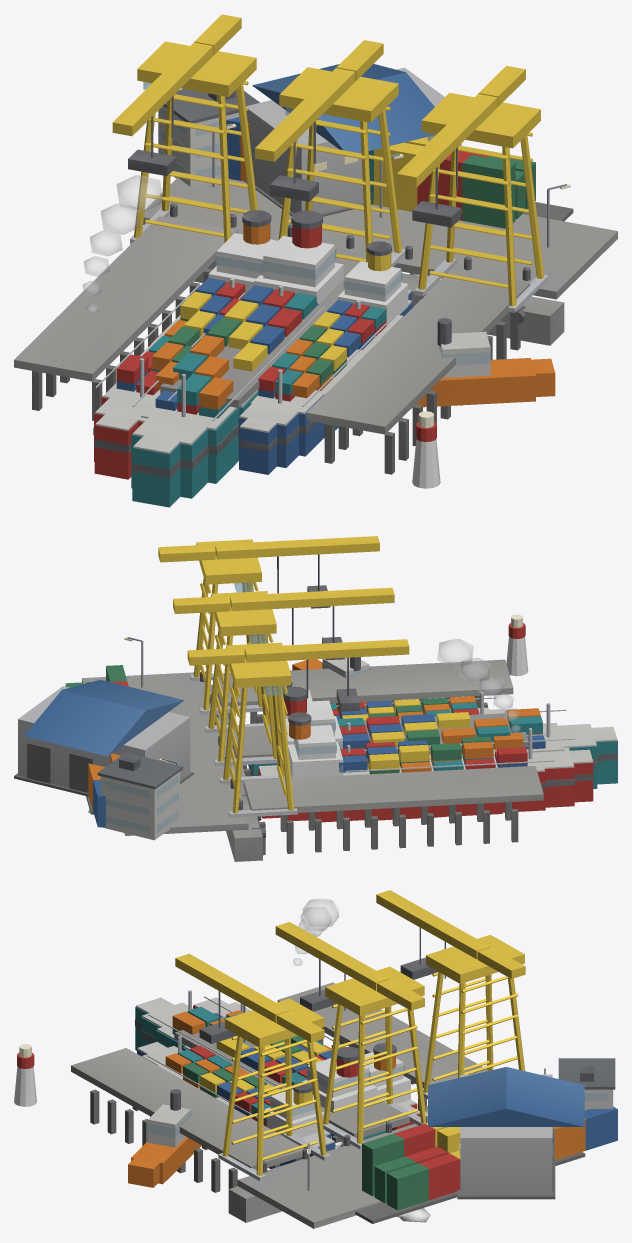
File: Port_P3.fbx
The picture shows the model from 3 angles, top to bottom: view 1: azimuth 30°, elevation 25°; view 2: azimuth 150°, elevation 25°; view 3: azimuth 270°, elevation 25°; orthographic projection. The views are drawn at different scales.
Parts seen in each view (by area): view 1: Port.ShipOut, Port.Pier0, Port.Pier2, Port.Ship1, Port.Crane2, Port.Apron, Port.Crane0, Port.Crane1, Port.Ship0, Port.Shed, Port.Containers, Port.Tug (+5 smaller); view 2: Port.Ship0, Port.Shed, Port.Pier0, Port.ShipOut, Port.Crane0, Port.Crane1, Port.Pier2, Port.Crane2, Port.Apron, Port.Control, Port.Ship1, Port.ShipSmoke (+5 smaller); view 3: Port.Shed, Port.Crane2, Port.Crane1, Port.Pier2, Port.Crane0, Port.Containers, Port.Apron, Port.ShipOut, Port.Ship1, Port.Pier0, Port.Tug, Port.Ship0 (+5 smaller).
Boxes of the visible parts, x1=… form: Port.ShipOut: x1=130, y1=210, x2=343, y2=507; Port.Pier0: x1=14, y1=216, x2=237, y2=420; Port.Pier2: x1=306, y1=269, x2=530, y2=474; Port.Ship1: x1=238, y1=241, x2=412, y2=474; Port.Crane2: x1=397, y1=65, x2=548, y2=312; Port.Apron: x1=143, y1=177, x2=617, y2=299; Port.Crane0: x1=112, y1=14, x2=257, y2=243; Port.Crane1: x1=255, y1=40, x2=405, y2=266; Port.Ship0: x1=93, y1=210, x2=277, y2=479; Port.Shed: x1=244, y1=64, x2=461, y2=216; Port.Containers: x1=226, y1=117, x2=535, y2=228; Port.Tug: x1=416, y1=318, x2=555, y2=407; Port.Ship0: x1=258, y1=712, x2=593, y2=822; Port.Shed: x1=14, y1=680, x2=194, y2=796; Port.Pier0: x1=243, y1=766, x2=543, y2=855; Port.ShipOut: x1=249, y1=686, x2=617, y2=788; Port.Crane0: x1=187, y1=639, x2=409, y2=817; Port.Crane1: x1=173, y1=587, x2=394, y2=766; Port.Pier2: x1=218, y1=659, x2=513, y2=723; Port.Crane2: x1=158, y1=536, x2=379, y2=714; Port.Apron: x1=82, y1=672, x2=248, y2=835; Port.Control: x1=97, y1=752, x2=182, y2=840; Port.Ship1: x1=248, y1=682, x2=515, y2=768; Port.ShipSmoke: x1=437, y1=638, x2=520, y2=732; Port.Shed: x1=428, y1=1067, x2=584, y2=1199; Port.Crane2: x1=175, y1=953, x2=330, y2=1181; Port.Crane1: x1=275, y1=922, x2=425, y2=1149; Port.Pier2: x1=71, y1=1048, x2=304, y2=1192; Port.Crane0: x1=376, y1=890, x2=525, y2=1098; Port.Containers: x1=362, y1=1106, x2=617, y2=1210; Port.Apron: x1=237, y1=1123, x2=585, y2=1228; Port.ShipOut: x1=135, y1=990, x2=385, y2=1146; Port.Ship1: x1=137, y1=1036, x2=335, y2=1168; Port.Pier0: x1=277, y1=982, x2=487, y2=1110; Port.Tug: x1=128, y1=1089, x2=201, y2=1187; Port.Ship0: x1=193, y1=997, x2=420, y2=1130.
Bounding box in the file's own units: 9624 × 3818 × 10472.
